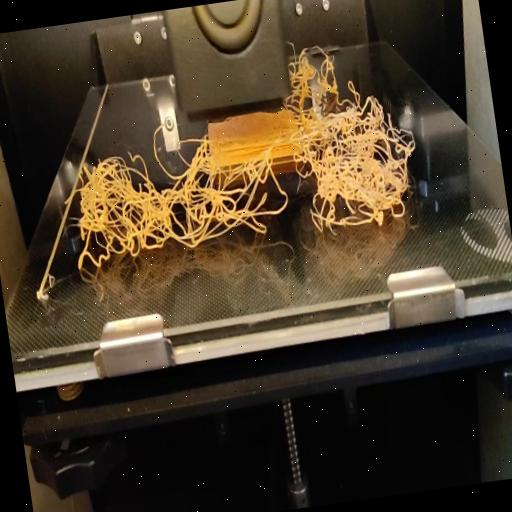spaghetti: (54, 92, 427, 280), (283, 26, 370, 108)
